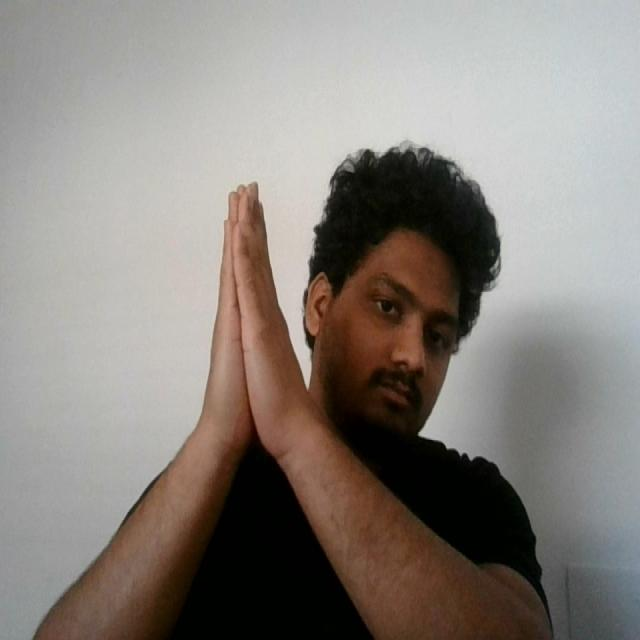Thanks: (188, 174, 313, 480)
